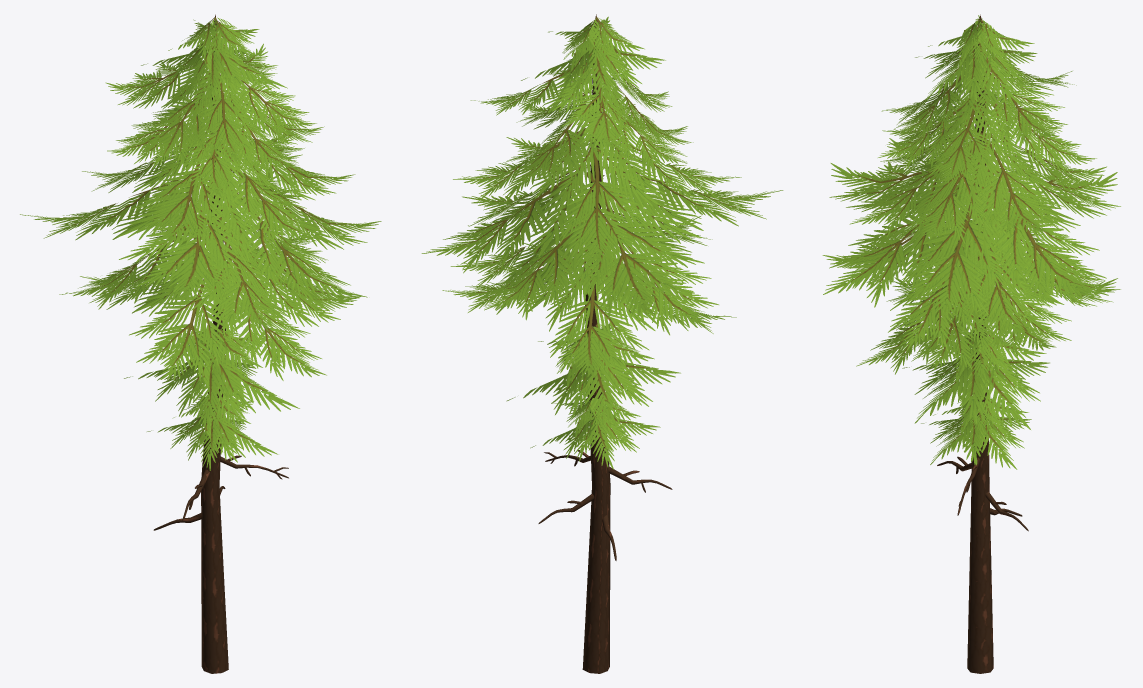
The model's file is pine-2.glb.
3 views of the same model, side by side, from view 1: azimuth 30°, elevation 25°; view 2: azimuth 150°, elevation 25°; view 3: azimuth 270°, elevation 25° (orthographic).
Parts seen in each view (by area): view 1: PineTree_2; view 2: PineTree_2; view 3: PineTree_2.
Boxes of the visible parts, bbox=[...] form: PineTree_2: bbox=[20, 14, 381, 673]; PineTree_2: bbox=[421, 14, 783, 673]; PineTree_2: bbox=[822, 14, 1120, 673].
Bounding box in the file's own units: 3.28 × 6.91 × 2.98.
Materials: 2 (2 with a texture image).
